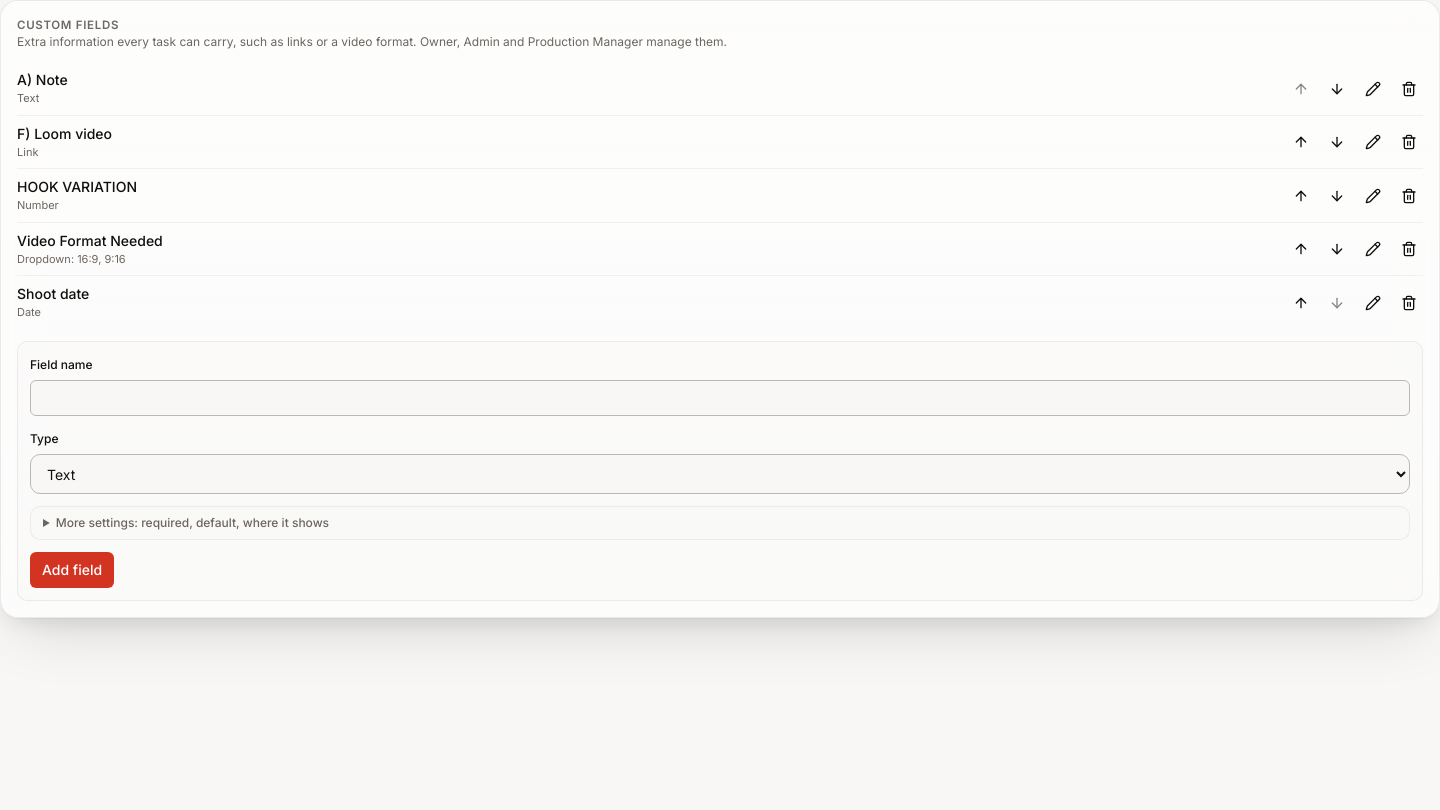
Test: CustomFieldsManager › refuses a name another field already has
In the field labelled "Field name": {"x": 720, "y": 398} [30, 380, 1410, 416], type "hook variation"
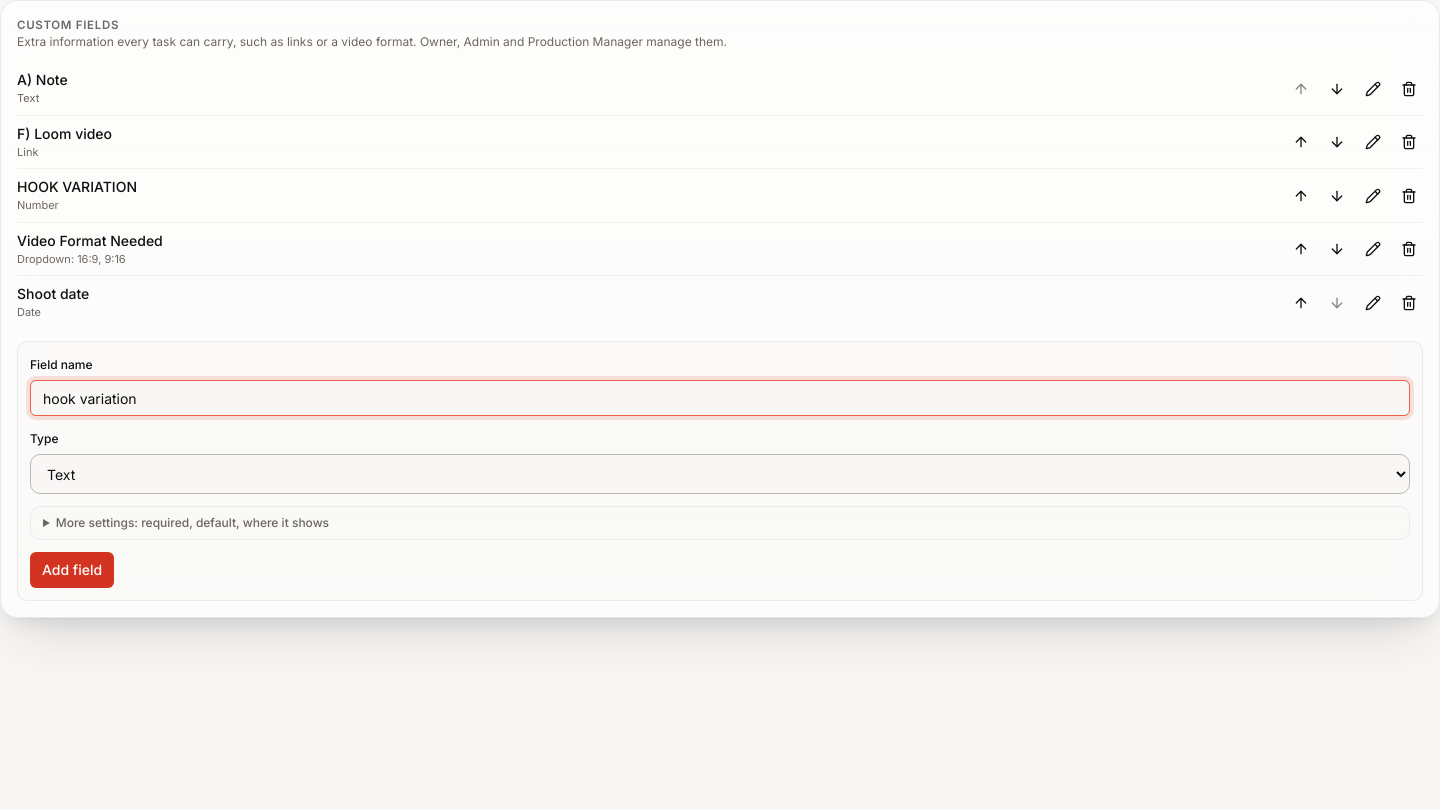
Click the button "Add field": {"x": 72, "y": 570} [30, 552, 114, 588]
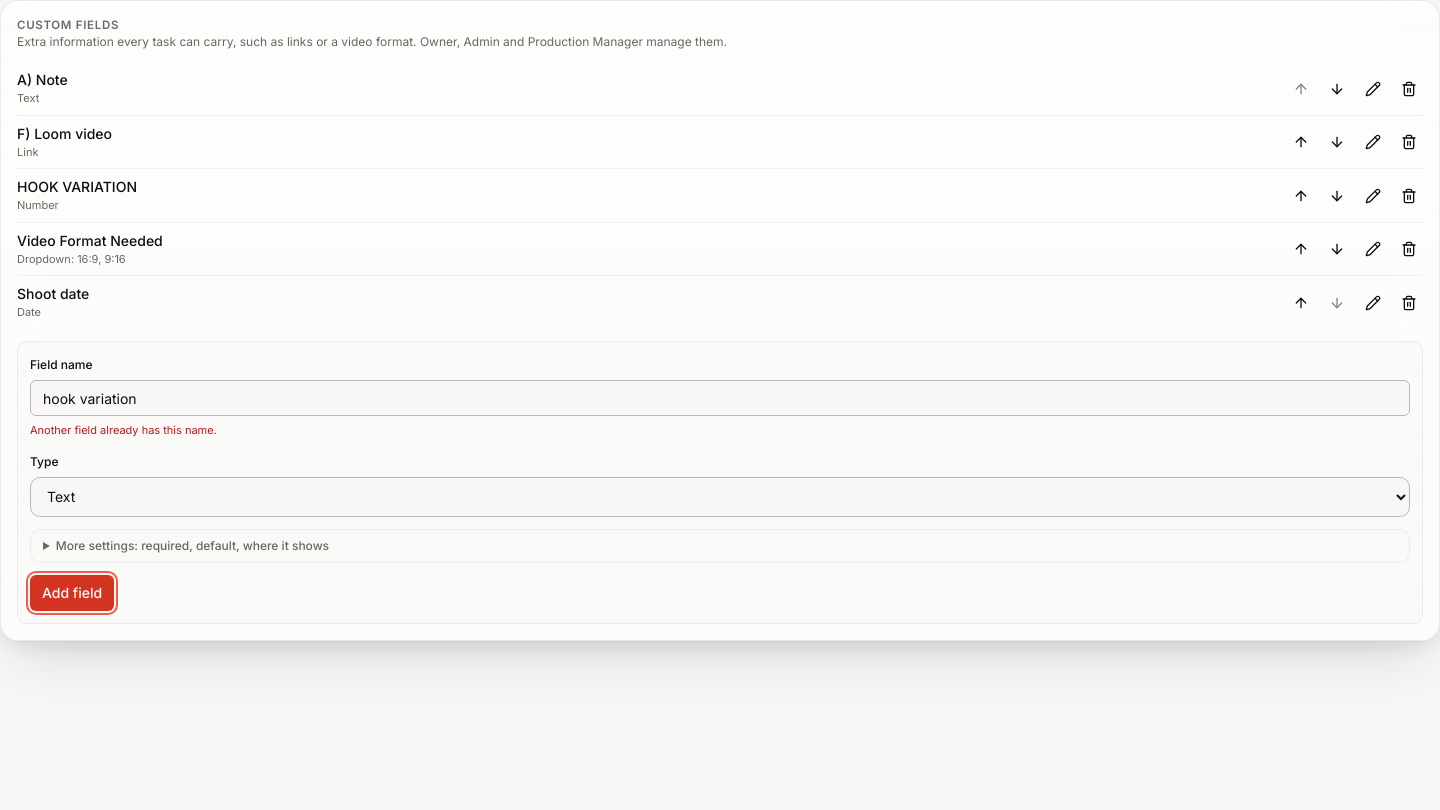
Expected: the text "Another field already has this name." is shown, [30, 423, 217, 437]
